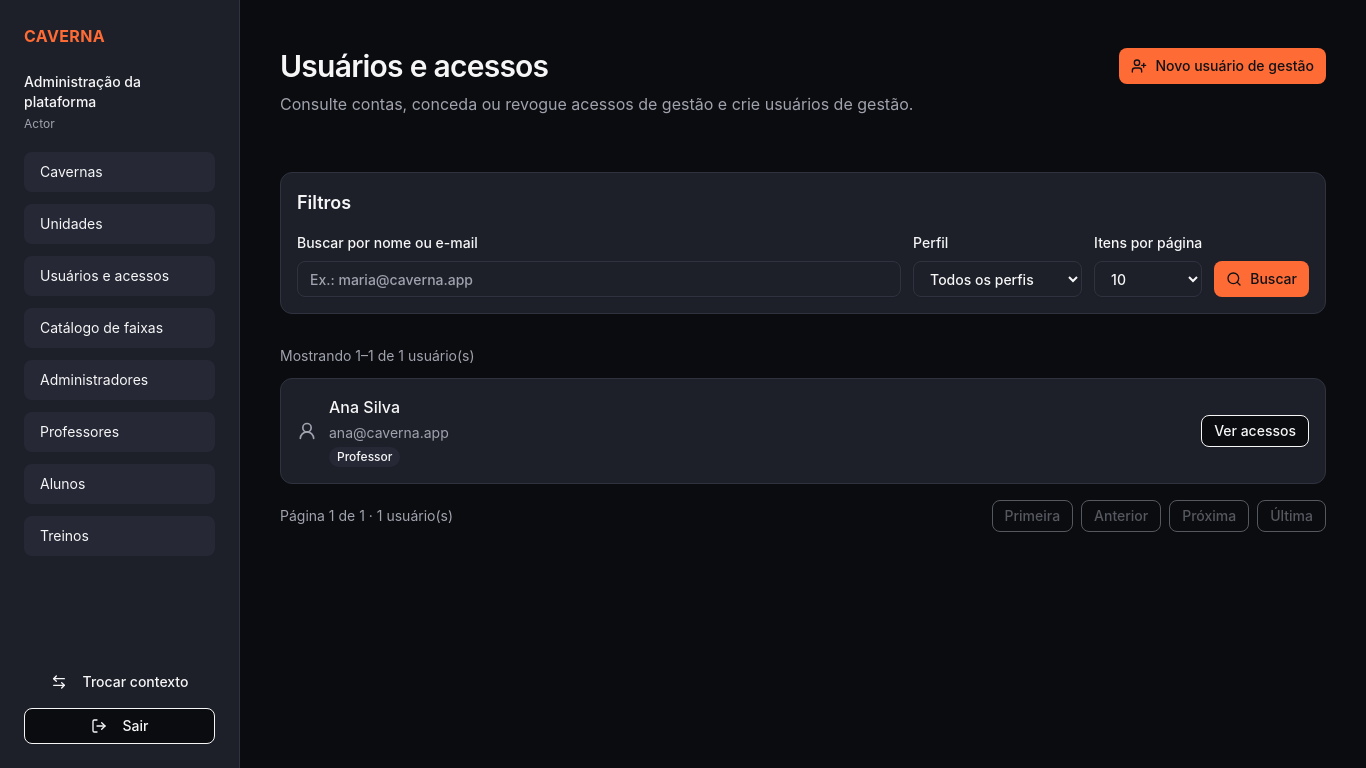
PlatformUsersPage › lists current access and revokes the teacher access
This screenshot has width=1366, height=768.
Later steps or results of the test are not shown.
Click the button "Ver acessos". click: (1255, 431)
box: [1201,415,1309,447]
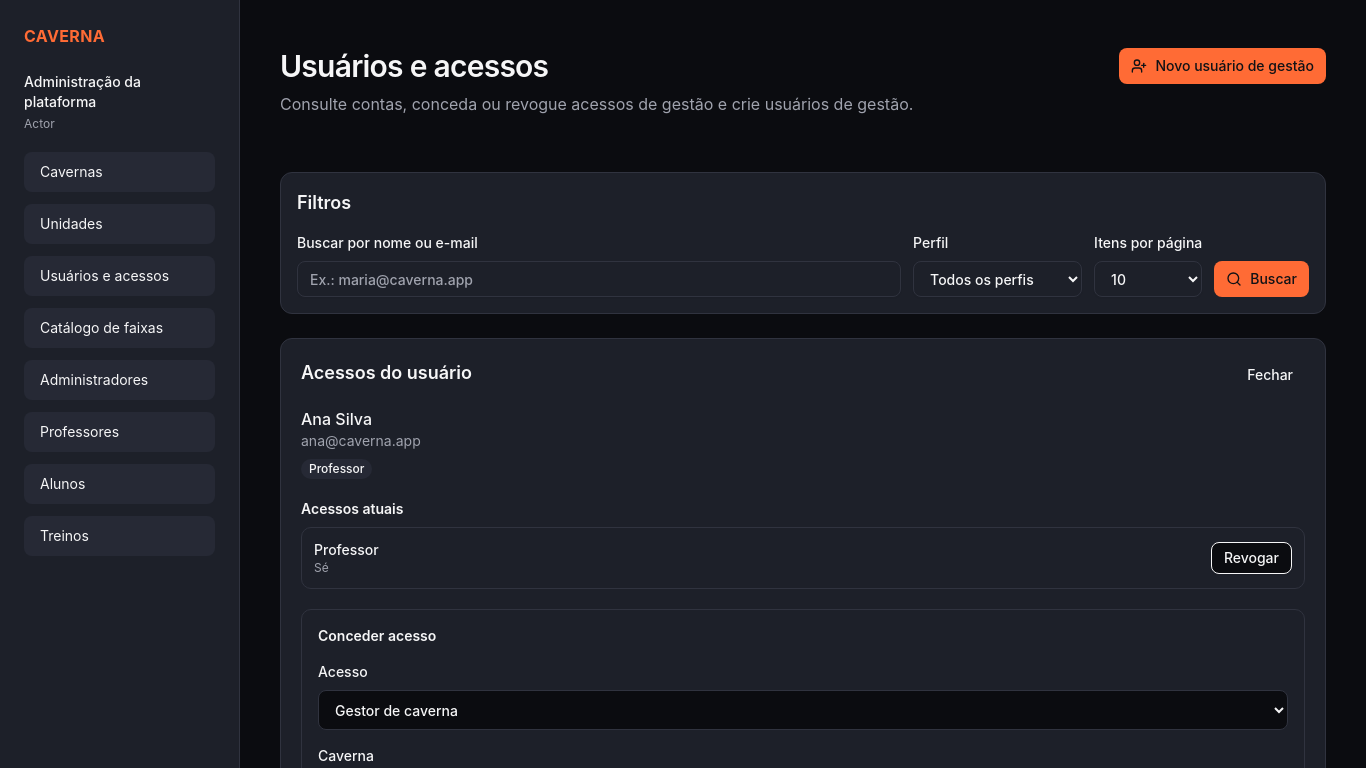
Expected: the list named "Acessos atuais" shows "Sé", [314,560,329,575]
